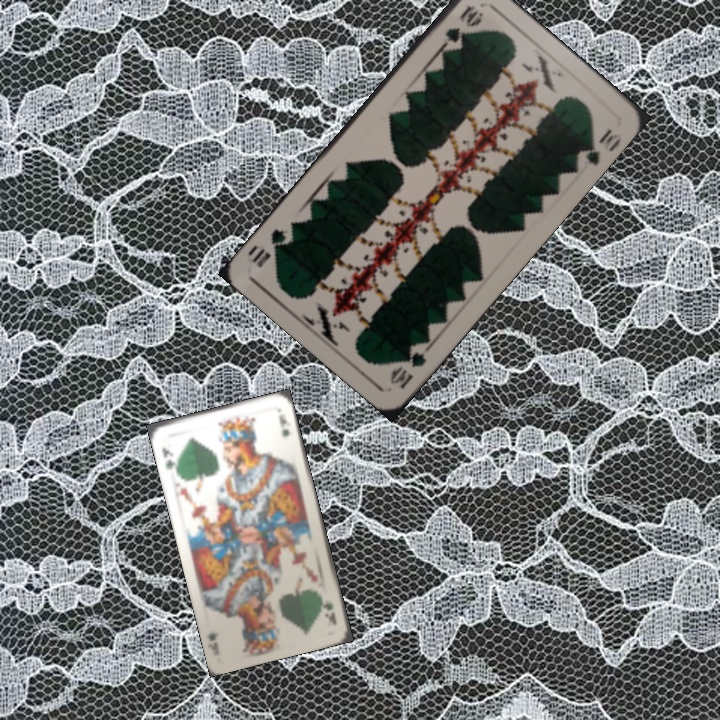G10: (437, 1, 485, 54), (385, 338, 430, 392)
GK: (158, 443, 180, 474), (320, 597, 339, 628)
